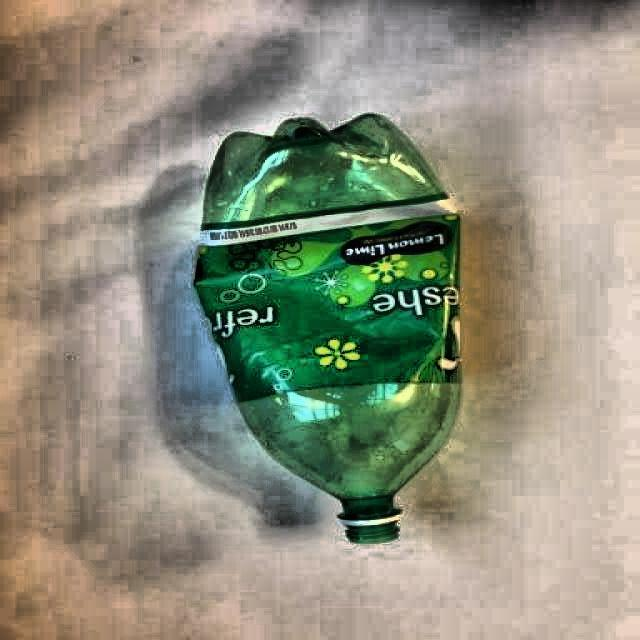plastic: (194, 114, 461, 542)
